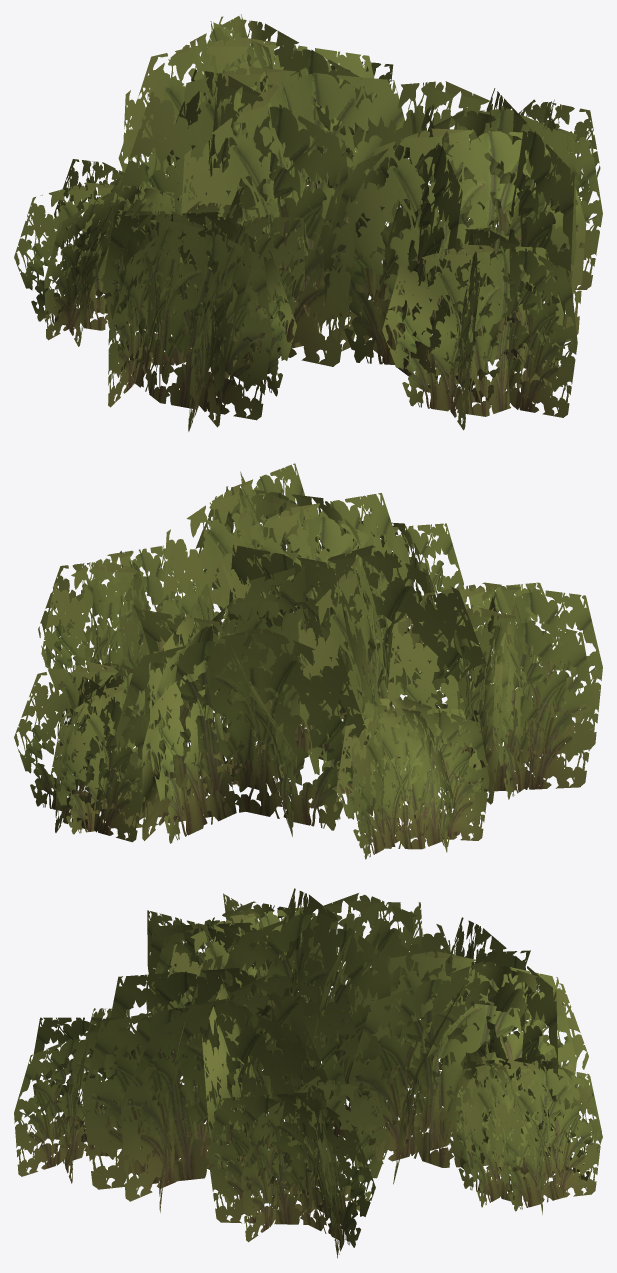
File: grassPatch05lod0.dae
3 views of the same model, one above another, from view 1: azimuth 30°, elevation 25°; view 2: azimuth 150°, elevation 25°; view 3: azimuth 270°, elevation 25° (orthographic). The views are drawn at different scales.
Visible parts, largest first — view 1: SM_Grass_Patch_05_LOD; view 2: SM_Grass_Patch_05_LOD; view 3: SM_Grass_Patch_05_LOD.
Boxes of the visible parts, bbox=[...] form: SM_Grass_Patch_05_LOD: bbox=[14, 14, 602, 431]; SM_Grass_Patch_05_LOD: bbox=[14, 463, 602, 859]; SM_Grass_Patch_05_LOD: bbox=[14, 888, 602, 1258].
Bounding box in the file's own units: 1.92 × 0.8221 × 1.98.
